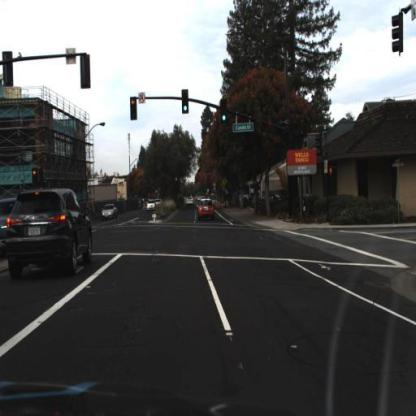car: (4, 186, 97, 280), (194, 195, 219, 223), (100, 202, 119, 221), (145, 198, 157, 213)
trafficLight-Green: (181, 90, 189, 114), (220, 102, 228, 123)
trafficLight-RedLeft: (130, 97, 138, 119), (31, 167, 39, 187)
